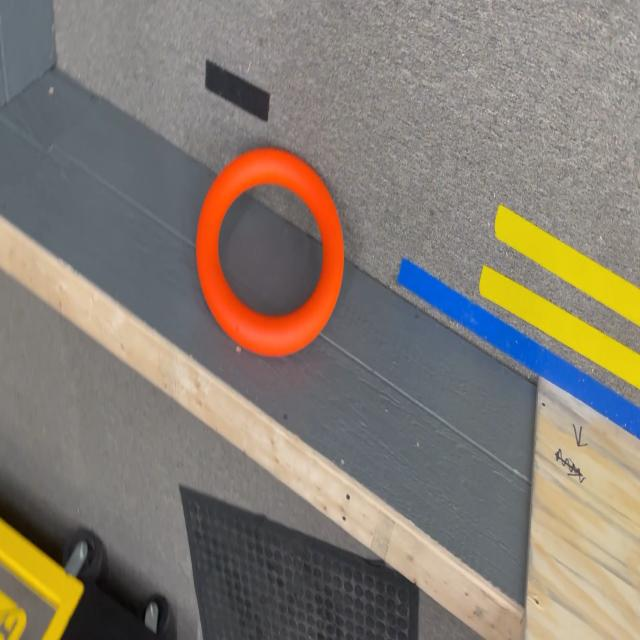note: (196, 149, 344, 358)
